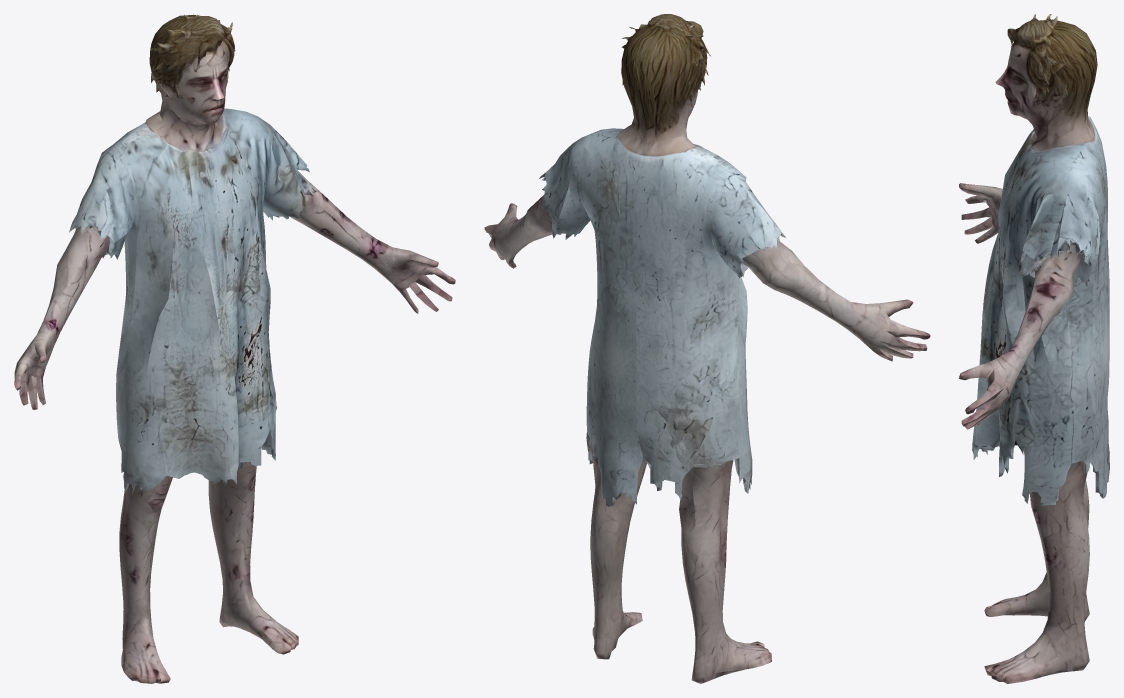
File: base_basic_pbr.glb
3 renders of one model, left to right at view 1: azimuth 30°, elevation 25°; view 2: azimuth 150°, elevation 25°; view 3: azimuth 270°, elevation 25°, orthographic.
Parts seen in each view (by area): view 1: model; view 2: model; view 3: model.
Part boxes in pixels (x1,y1,x2,y2): model: [14, 14, 455, 683]; model: [484, 14, 930, 683]; model: [959, 14, 1109, 683].
Size of the model in its own units: 1.31 by 1.8 by 0.3922.
1 material, 1 textured.
